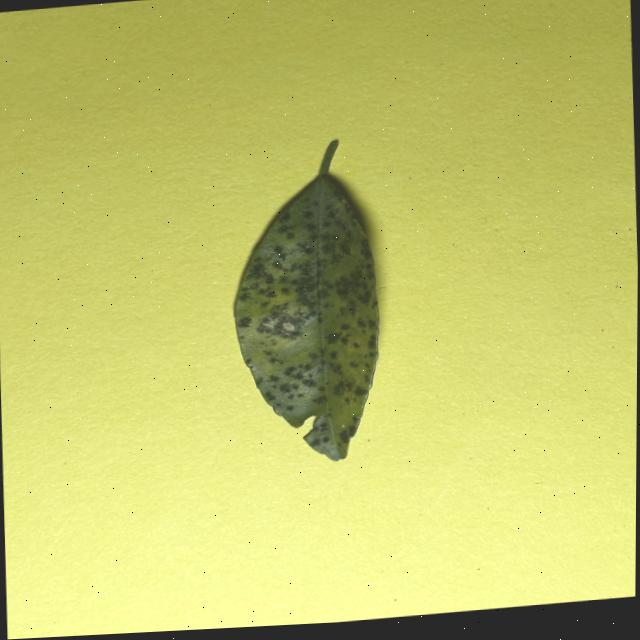sooty_mold: (233, 140, 377, 459)
